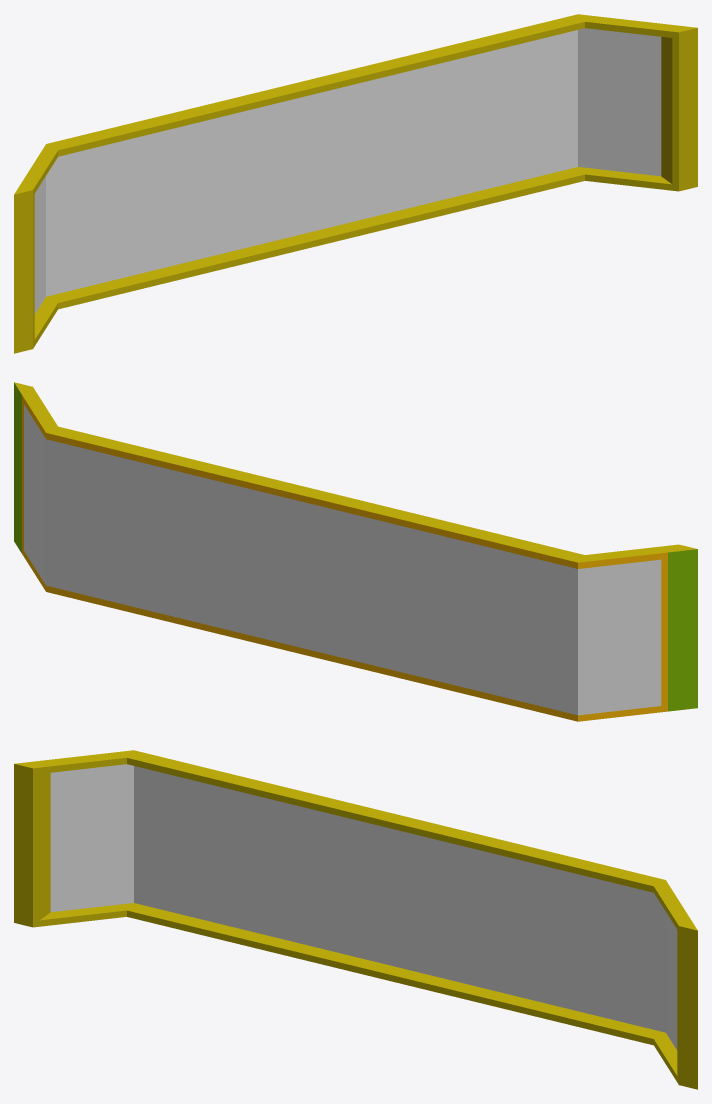
File: window_panoramic_9x1x2.dae
The picture shows the model from 3 angles, top to bottom: view 1: azimuth 30°, elevation 25°; view 2: azimuth 150°, elevation 25°; view 3: azimuth 330°, elevation 25°; orthographic projection.
Parts seen in each view (by area): view 1: Cube; view 2: Cube; view 3: Cube.
Boxes of the visible parts, <box> form: Cube: <box>14,14,697,353</box>; Cube: <box>14,382,697,721</box>; Cube: <box>14,750,697,1089</box>.
Bounding box in the file's own units: 2.25 × 0.25 × 0.5.
